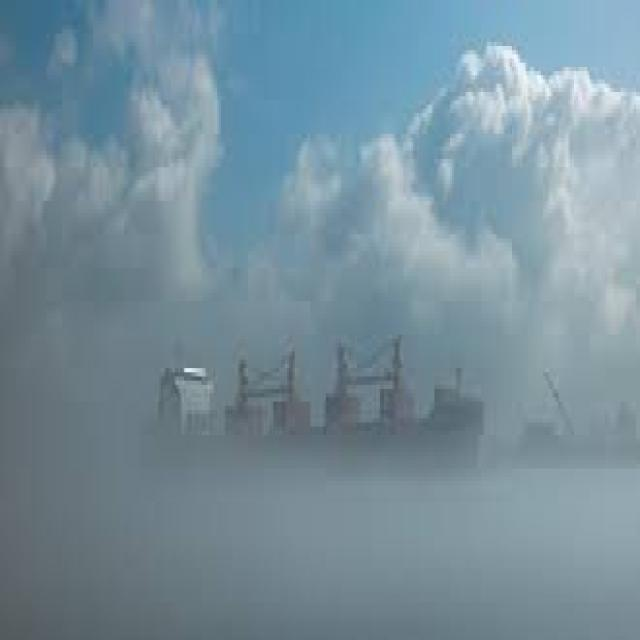cargoship: (141, 333, 486, 489)
